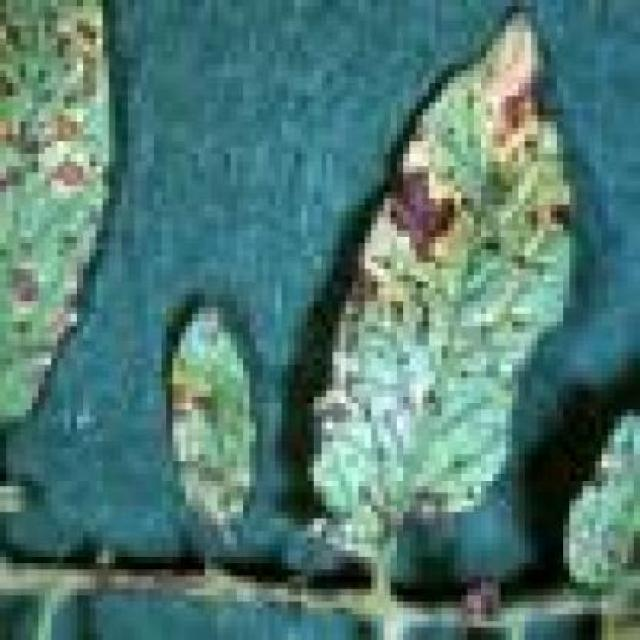Septoria leaf spot: (288, 6, 583, 557), (0, 6, 128, 500), (168, 281, 257, 557), (569, 409, 634, 622)
